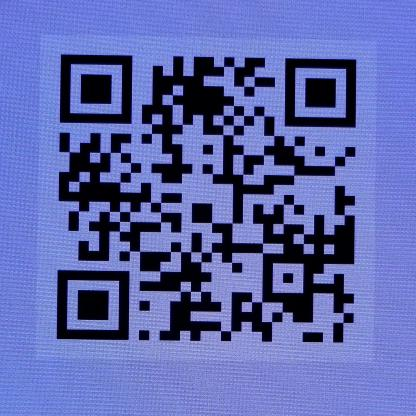qr: (53, 49, 365, 351)
